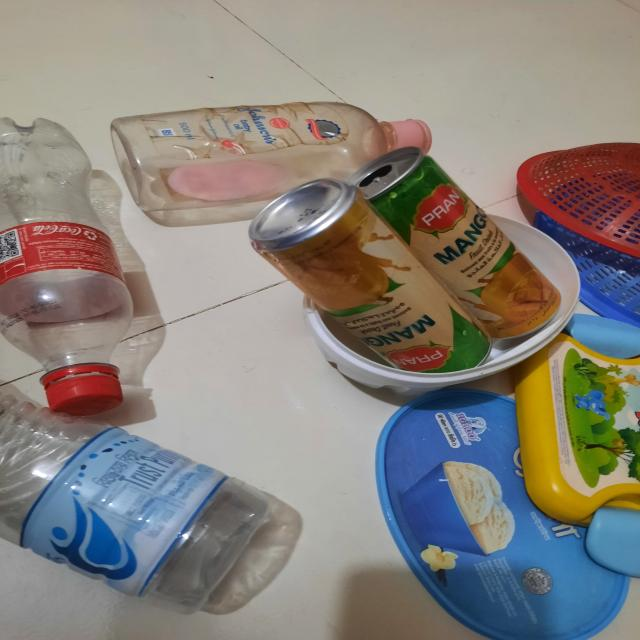Plastics: (0, 83, 247, 625), (433, 374, 640, 640)
can: (261, 144, 534, 370)
